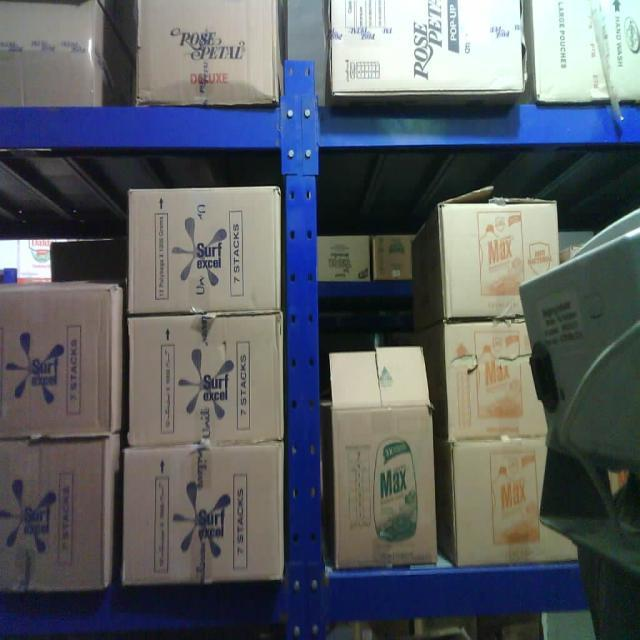box: (335, 357, 435, 562), (331, 0, 531, 98), (129, 458, 286, 580), (126, 190, 281, 313), (128, 320, 284, 442), (332, 0, 526, 97), (0, 290, 116, 437), (1, 450, 114, 592), (140, 7, 280, 102), (442, 208, 556, 317), (449, 330, 559, 442)
